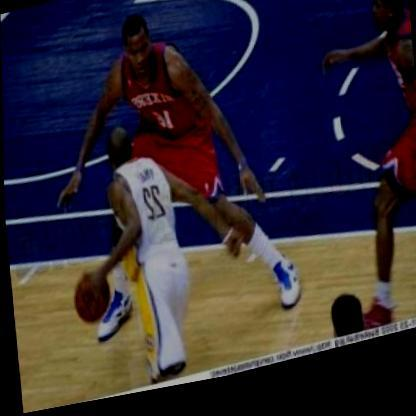basketball: (68, 263, 114, 334)
